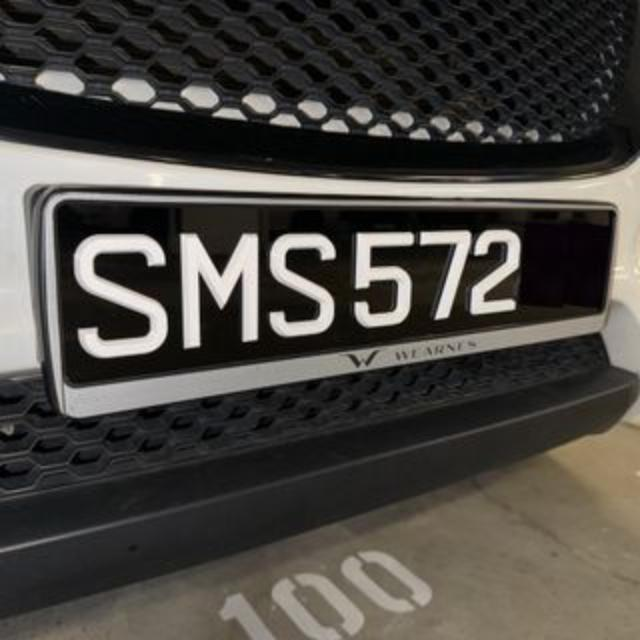License_Plate: (19, 156, 623, 422)
